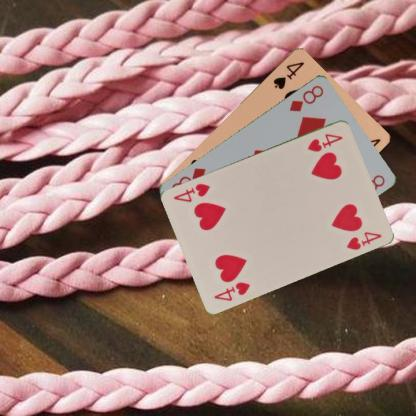4h: (211, 279, 252, 302), (304, 131, 344, 153)
4s: (270, 58, 306, 90)
8d: (287, 82, 325, 113)
